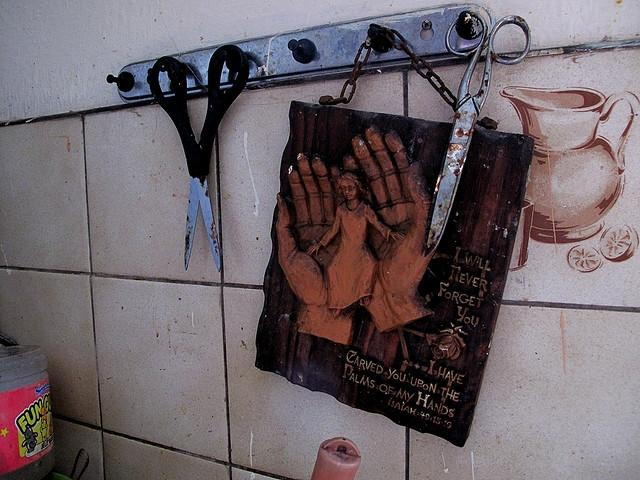lemon: (600, 223, 640, 262), (568, 244, 601, 272)
